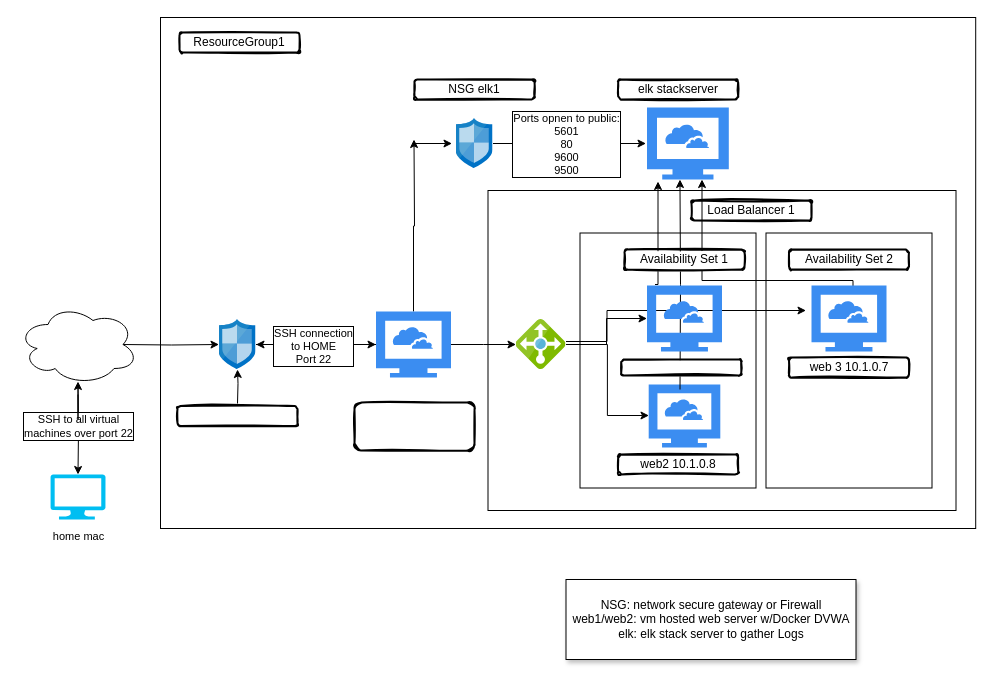
The diagram is 993 pixels wide and 684 high, and some of its shapes have lost their labels. The centre of each missing label's shape, as x and y in pixels:
Cloud/Internet: the point at 77,344
Jumpbox 10.0.0.4 vm with Ansible: the point at 414,426
NSG jumpbox: the point at 237,415
web1 10.1.0.7: the point at 681,367
